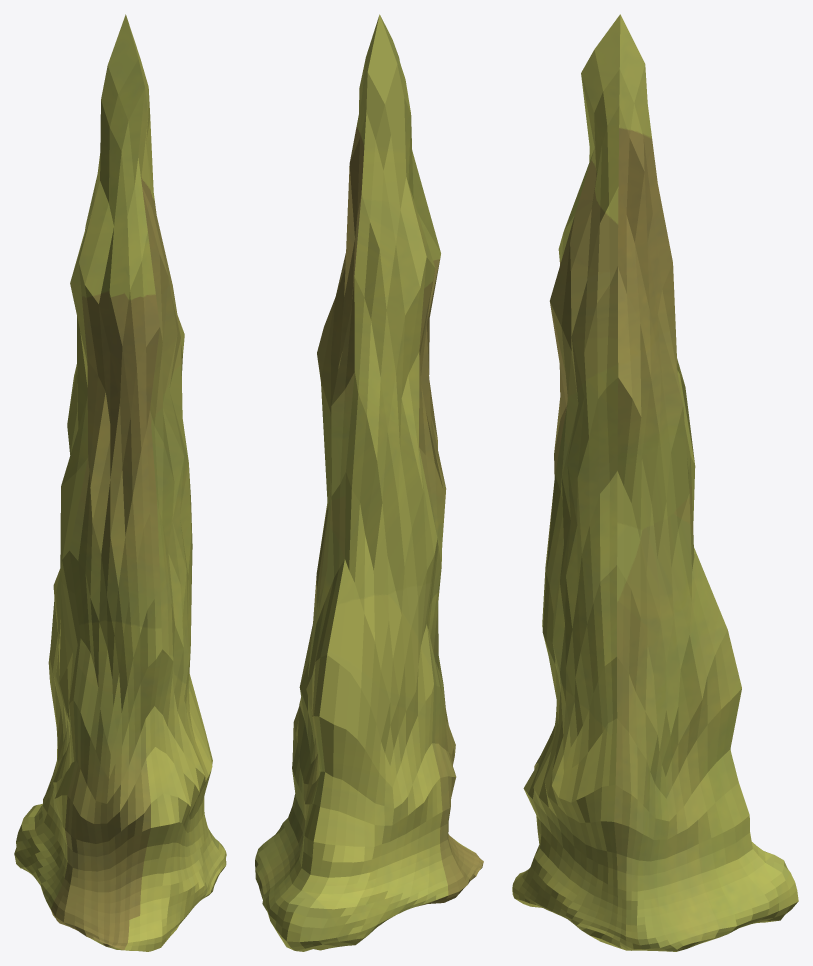
Rendered from spikyRock.fbx.
The picture shows the model from 3 angles, left to right: view 1: azimuth 30°, elevation 25°; view 2: azimuth 150°, elevation 25°; view 3: azimuth 270°, elevation 25°; orthographic projection. The views are drawn at different scales.
Parts seen in each view (by area): view 1: spikeRock; view 2: spikeRock; view 3: spikeRock.
Part boxes in pixels (box(x1,y1,x2,y2)): spikeRock: box(14, 14, 226, 951); spikeRock: box(255, 14, 483, 951); spikeRock: box(512, 14, 798, 951).
Bounding box in the file's own units: 401 × 1861 × 531.
